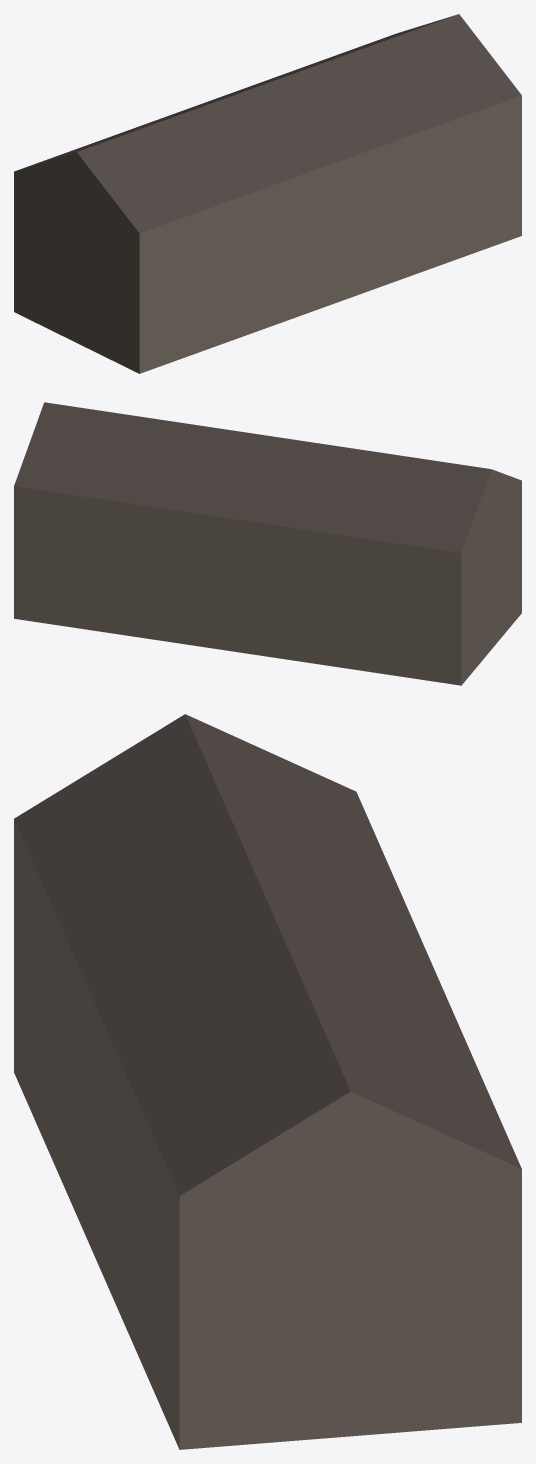
3 renders of one model, top to bottom at view 1: azimuth 30°, elevation 25°; view 2: azimuth 150°, elevation 25°; view 3: azimuth 270°, elevation 25°, orthographic. The views are drawn at different scales.
Visible parts, largest first — view 1: HP-w1198667810; view 2: HP-w1198667810; view 3: HP-w1198667810.
Part boxes in pixels (x1=…): HP-w1198667810: x1=14, y1=14, x2=521, y2=373; HP-w1198667810: x1=14, y1=402, x2=521, y2=685; HP-w1198667810: x1=14, y1=714, x2=521, y2=1449.
Bounding box in the file's own units: 20.51 × 8.16 × 10.89.
